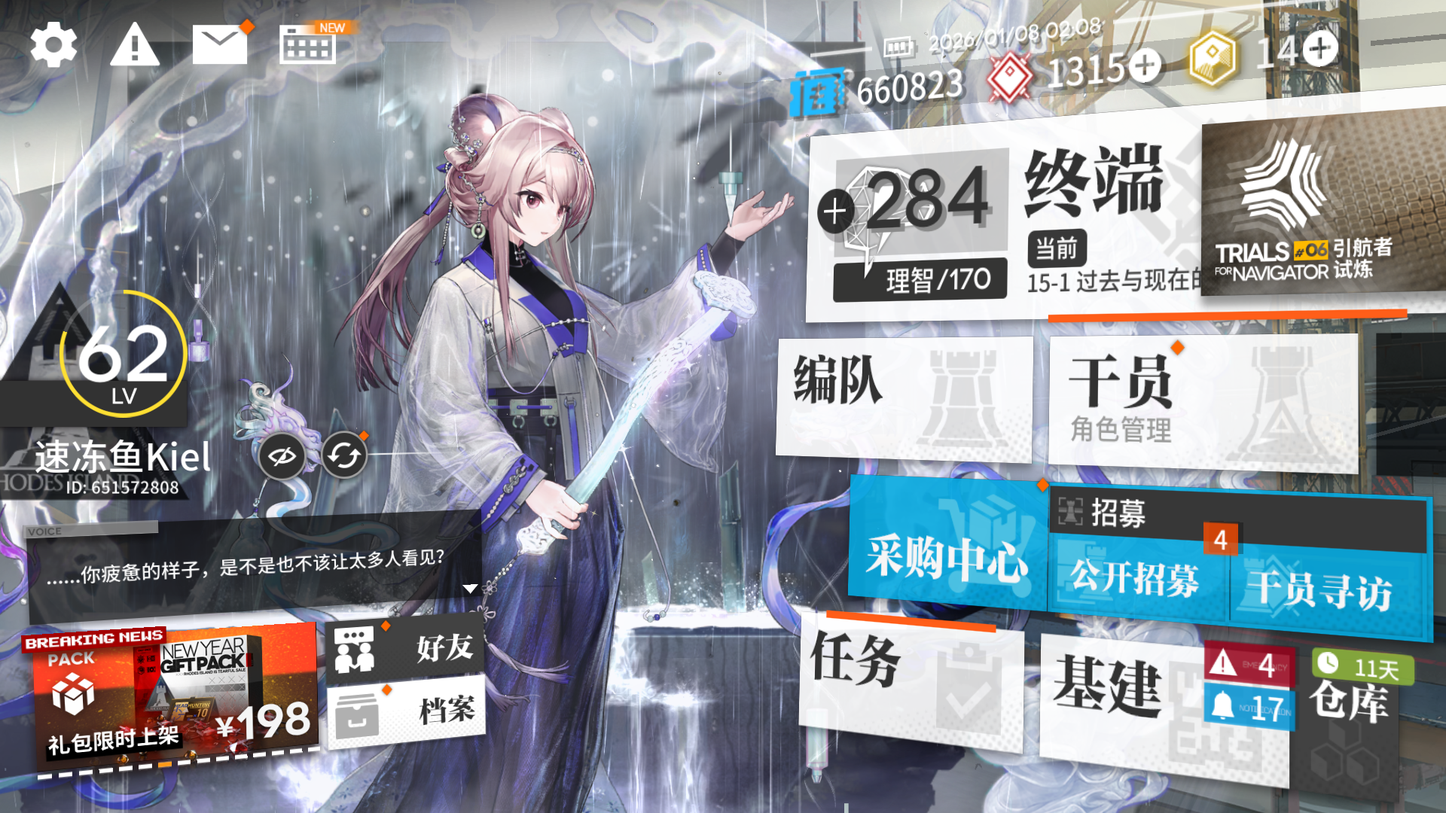home_button: (1017, 126, 1186, 263)
infrastructure_button: (1048, 624, 1247, 766)
